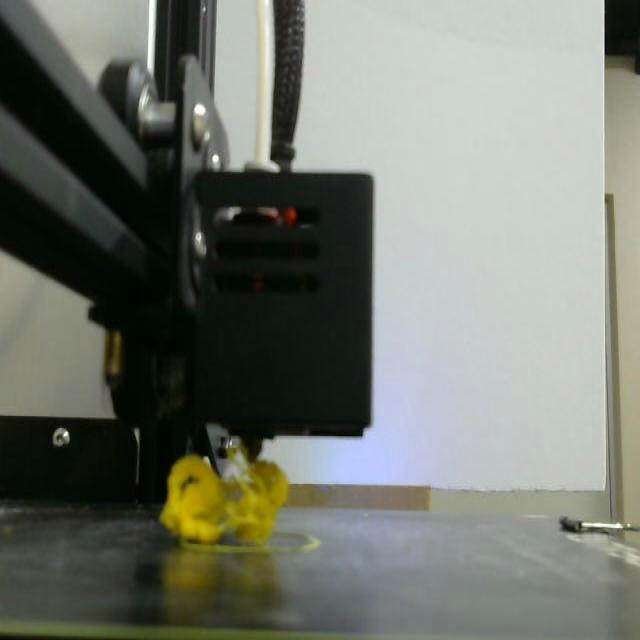spaghetti: (160, 454, 294, 556)
